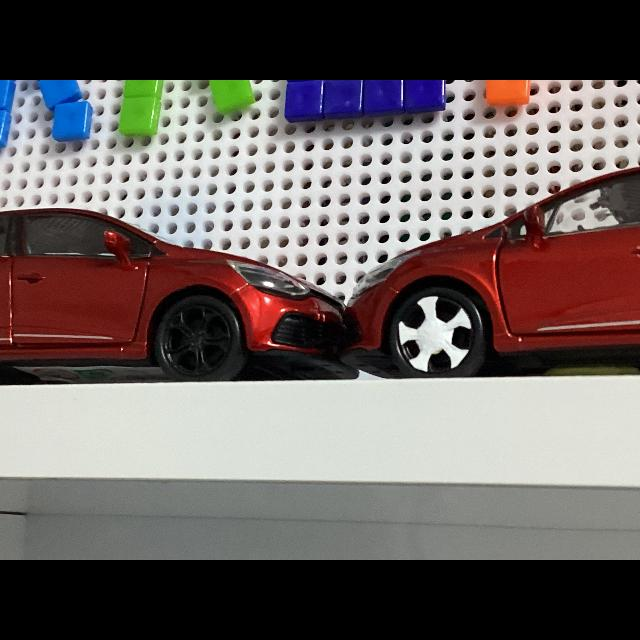Dogru_Jant: (163, 304, 230, 374)
Yanlis_Jant: (397, 296, 473, 374)
